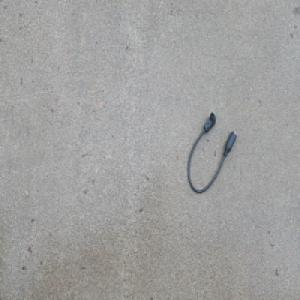Wire: (186, 110, 237, 194)
